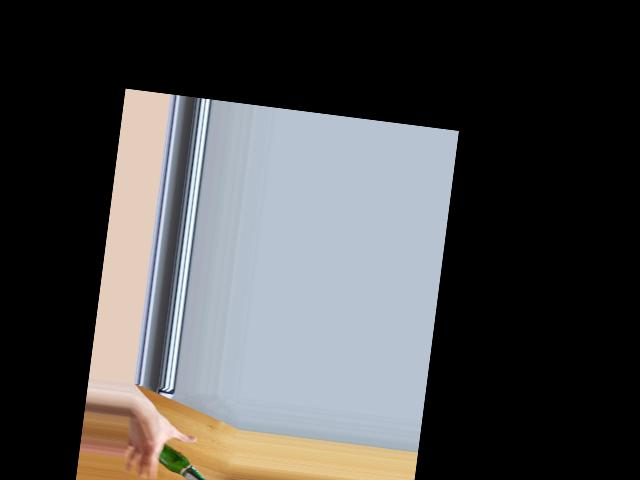beer: (155, 442, 217, 480)
